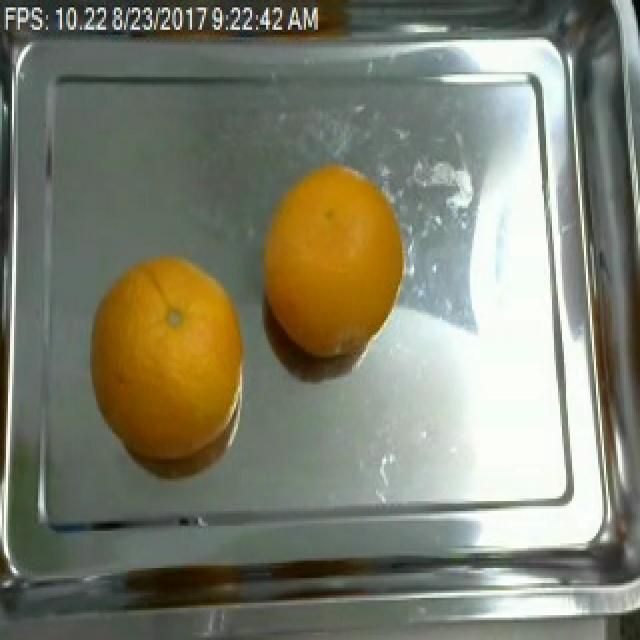Fruit: (252, 149, 414, 342)
